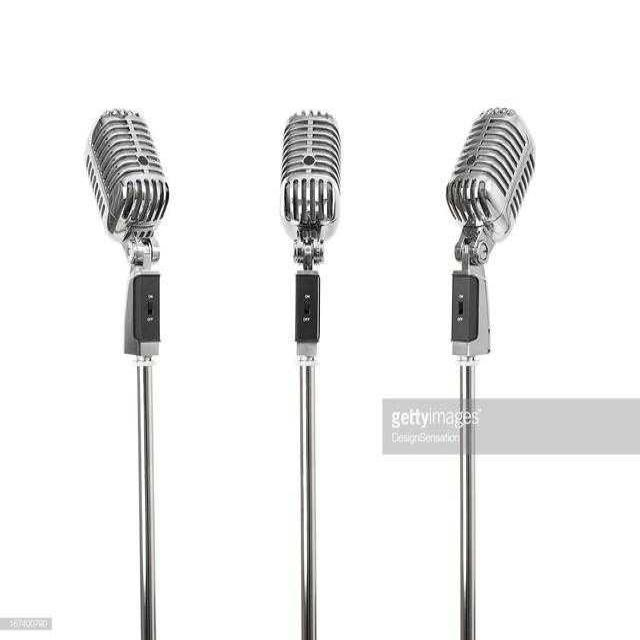microphone: (446, 108, 534, 351), (86, 108, 169, 346), (280, 114, 342, 313)
